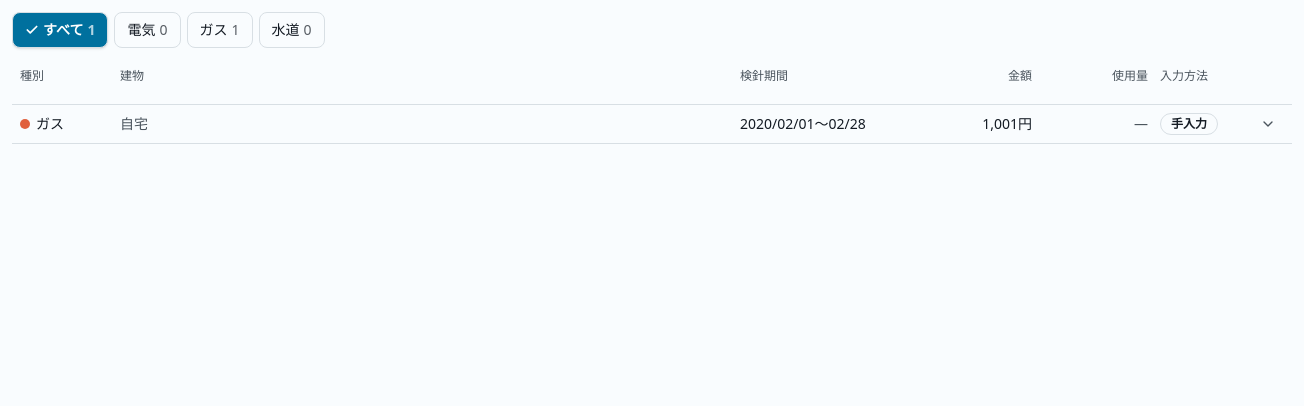
Test: RecordList › rejects an invalid 終了
Click the button "ガス 自宅 2020/02/01〜02/28 1,001円 — 手入力".
click(803, 124)  # box x1=12 y1=105 x2=1292 y2=143
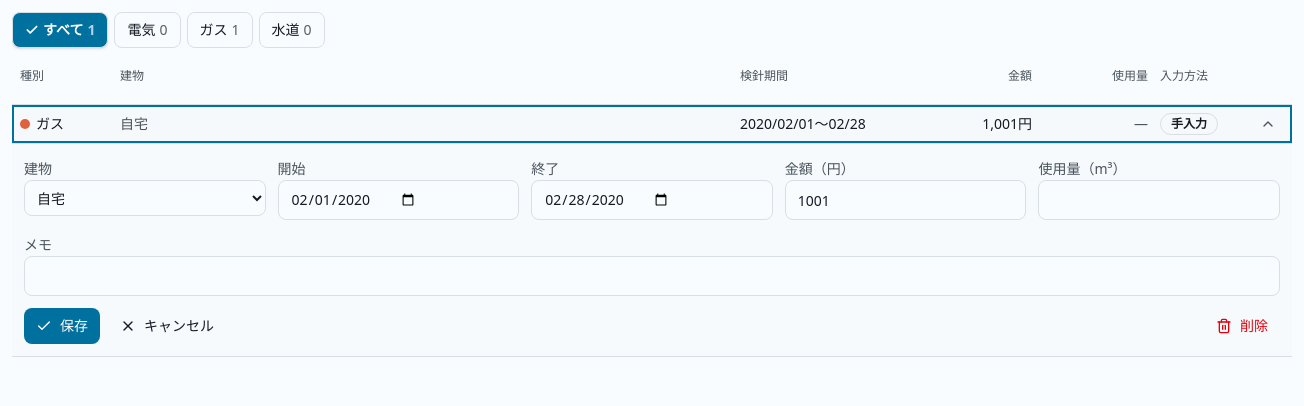
Type "2019-01-01" into the date field labelled "終了".
click(652, 200); type("2019-01-01")  # box x1=531 y1=180 x2=773 y2=220
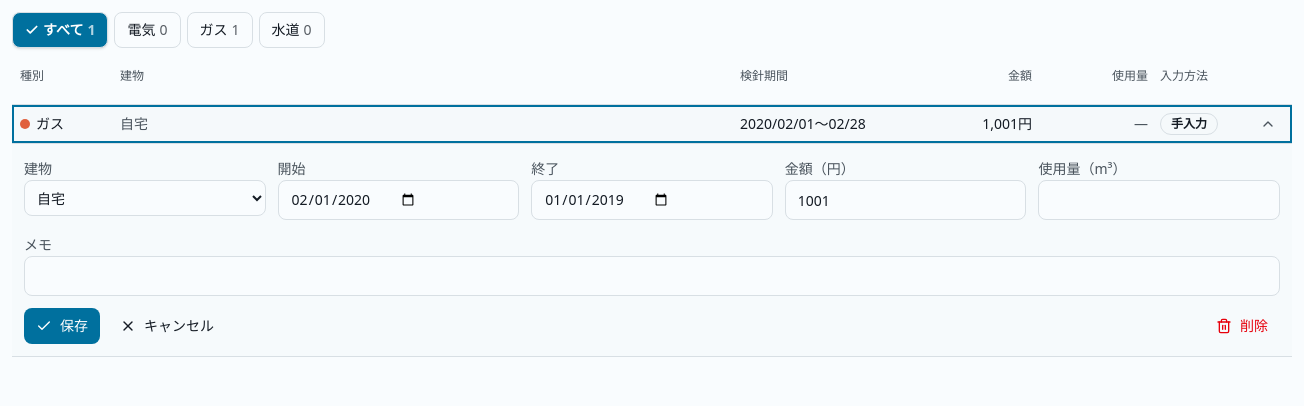
Click the button "保存".
click(62, 326)  # box x1=24 y1=308 x2=100 y2=344
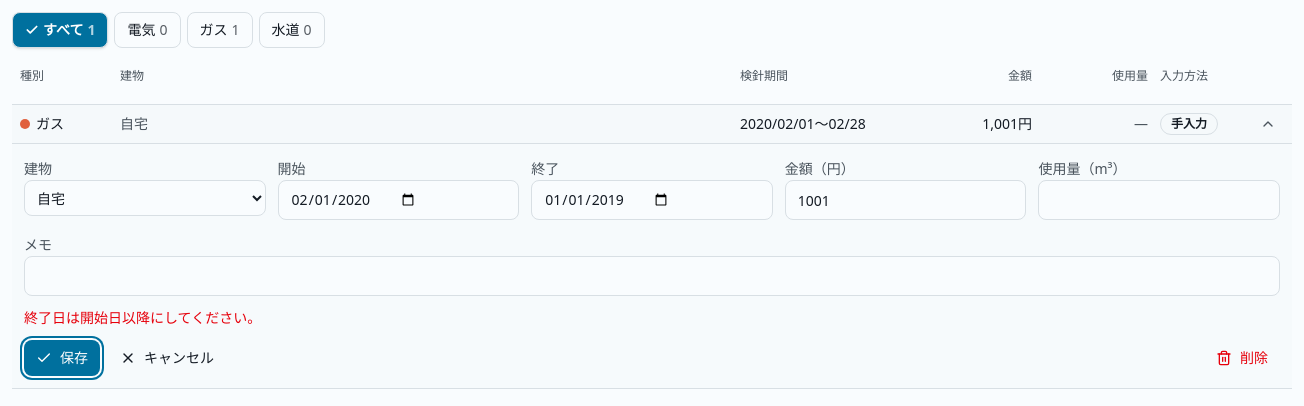
Check: the message reads "終了日は開始日以降にしてください。", box x1=24 y1=308 x2=261 y2=327
